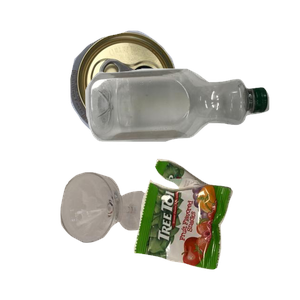glass: (58, 170, 202, 300)
metal: (68, 28, 237, 159)
plastic: (83, 66, 300, 201)
trash: (131, 156, 300, 300)
